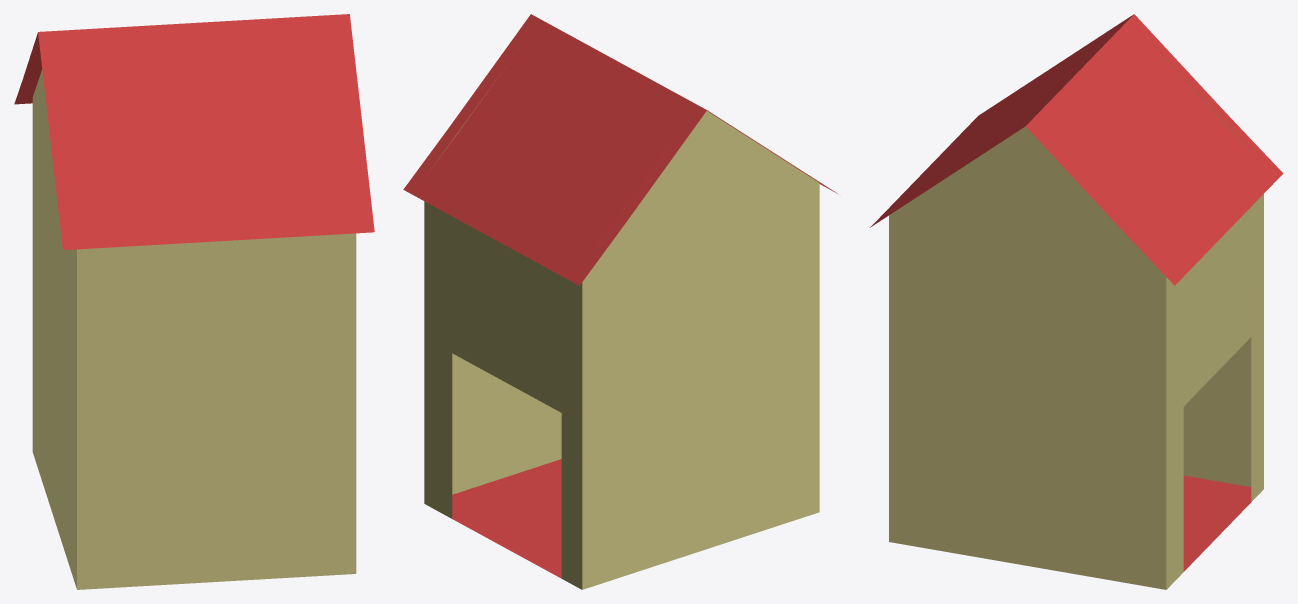
3 views of the same model, side by side, from view 1: azimuth 30°, elevation 25°; view 2: azimuth 150°, elevation 25°; view 3: azimuth 270°, elevation 25° (orthographic). The views are drawn at different scales.
Bounding box in the file's own units: 12.97 × 13.74 × 16.34.
